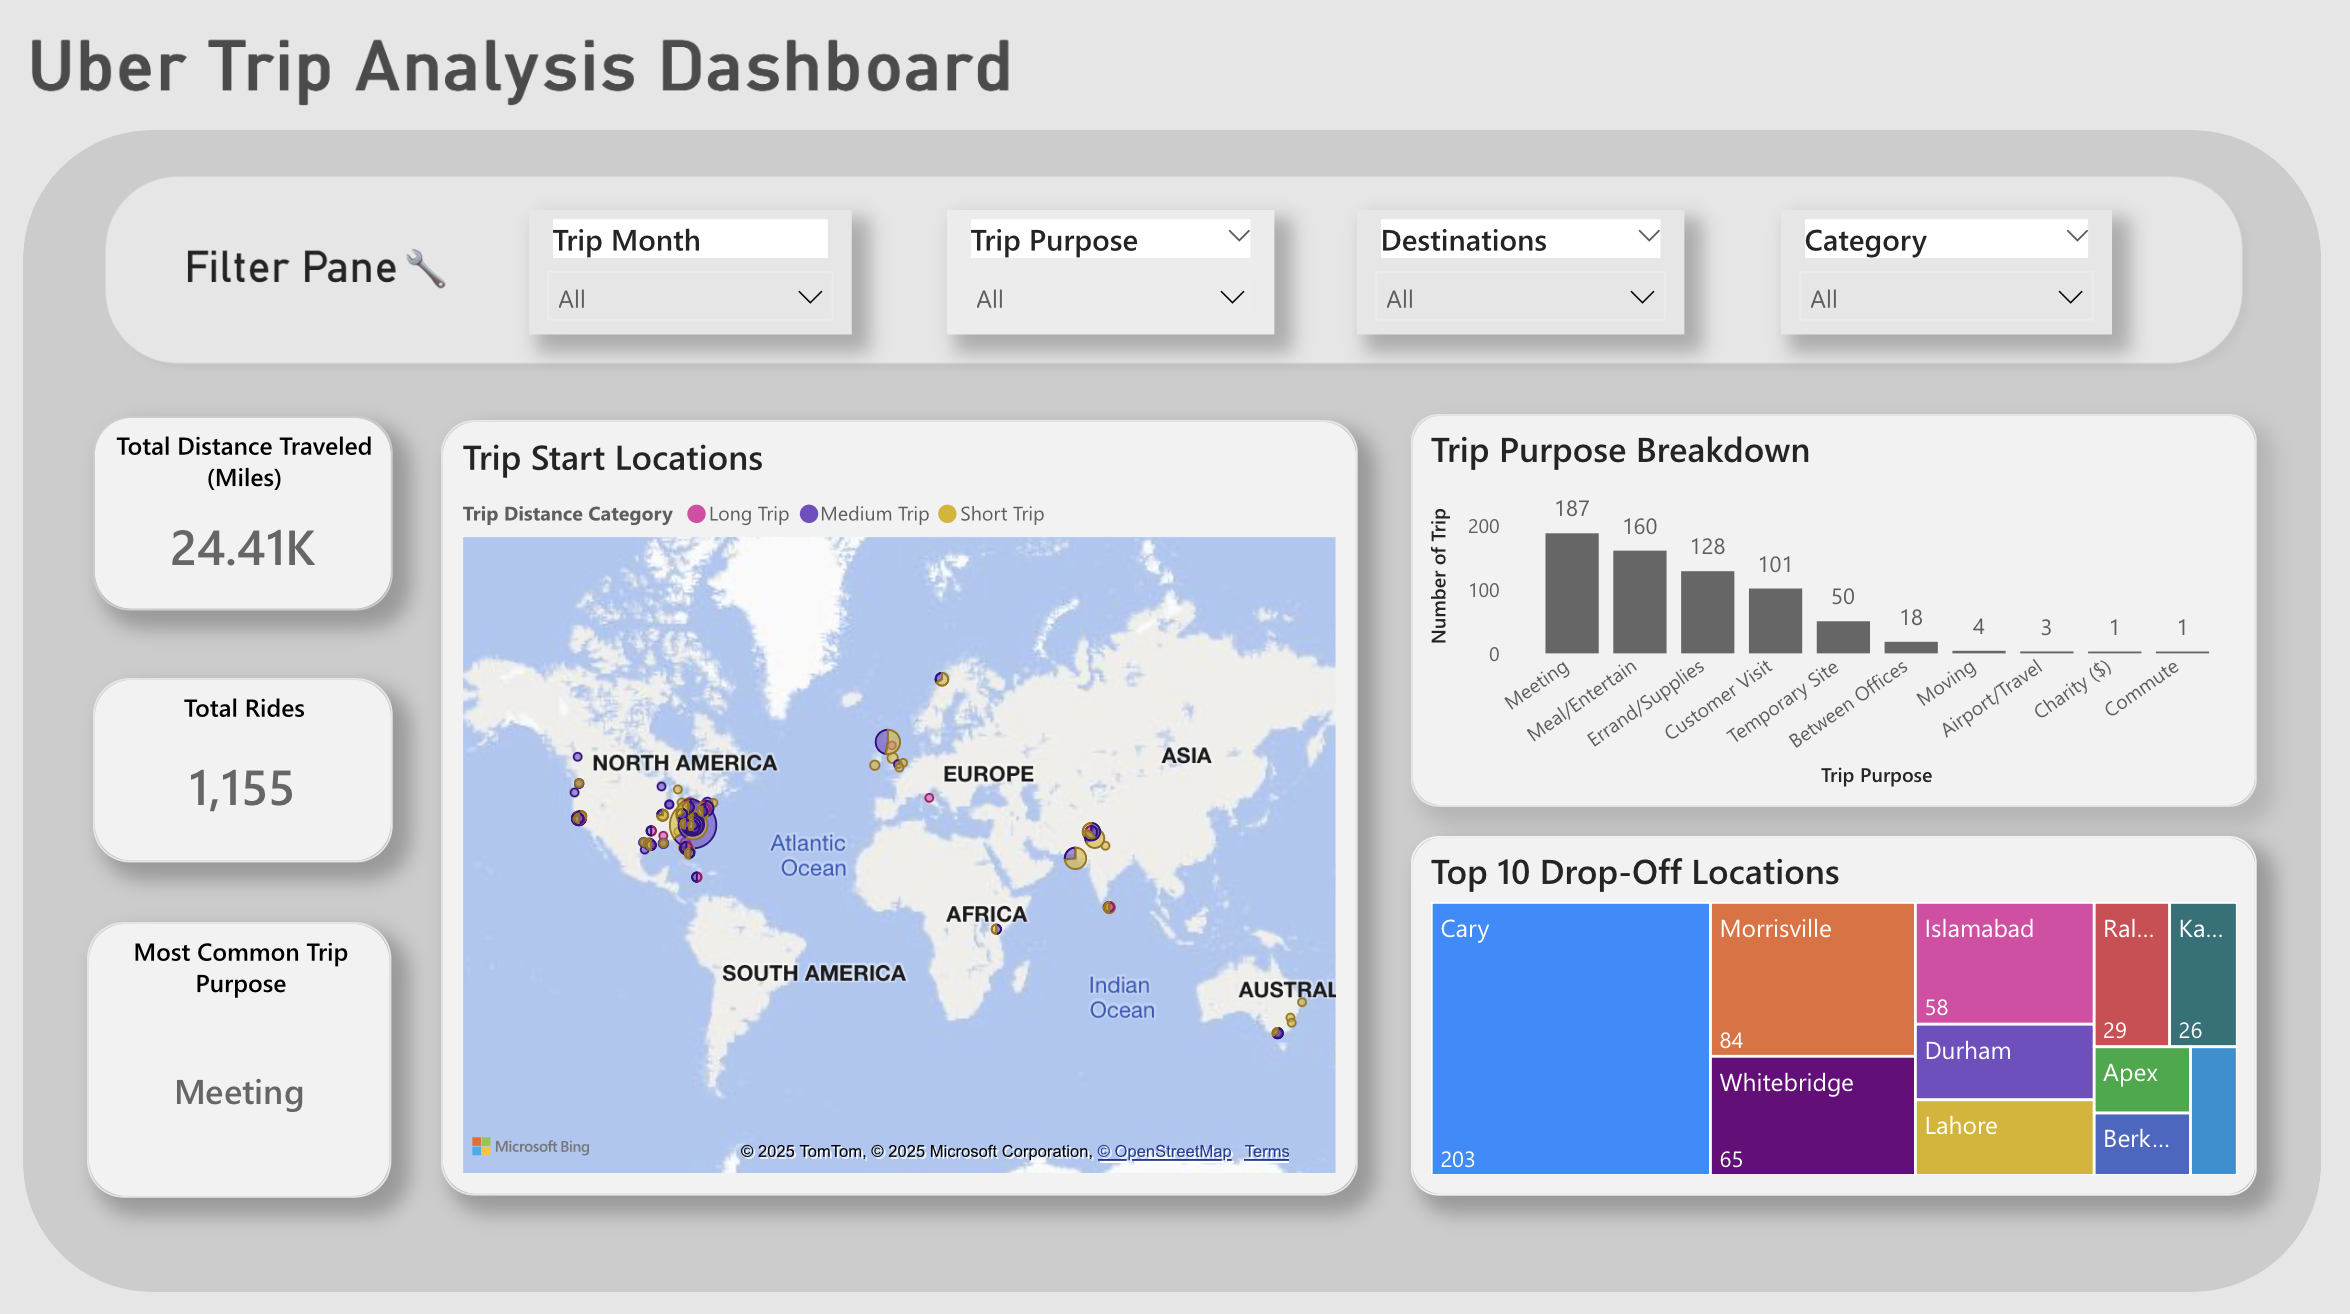

This screenshot's page, from the dashboard's own definition file:
{"tool":"powerbi","page":{"name":"Page 1","canvas":[1280,720],"ordinal":0},"visuals":[{"type":"shape","box":[14,74,1246,630],"z":0},{"type":"shape","box":[49.5,90,1176.5,119.2],"z":1000},{"type":"textbox","box":[12.2,16.3,624.5,73.5],"z":2000},{"type":"slicer","fields":{"Values":["UberDataset.END_DATE.Variation.Date Hierarchy.Month"]},"box":[287.9,117,175.5,67.5],"z":3000},{"type":"slicer","fields":{"Values":["UberDataset.PURPOSE"]},"box":[515.1,117,177.7,67.5],"z":4000},{"type":"slicer","fields":{"Values":["UberDataset.Cleaned_Location"]},"box":[737.9,117,177.7,67.5],"z":5000},{"type":"slicer","fields":{"Values":["UberDataset.CATEGORY"]},"box":[967.3,117,180,67.5],"z":6000},{"type":"textbox","box":[90.8,129.6,163.3,41.8],"z":7000},{"type":"card","title":"Total Rides","fields":{"Values":["CountNonNull(UberDataset.START_DATE)"]},"box":[52,370.7,162.7,100],"z":8000},{"type":"card","title":"Total Distance Traveled (Miles)","fields":{"Values":["Sum(UberDataset.MILES)"]},"box":[52,229.3,162.7,105.3],"z":9000},{"type":"card","title":"Most Common Trip Purpose","fields":{"Values":["UberDataset.Top 1 Trip Purposes"]},"box":[49.3,502.7,165.3,149.3],"z":10000},{"type":"map","title":"Trip Start Locations","fields":{"Category":["UberDataset.START"],"Size":["CountNonNull(UberDataset.START)"],"Series":["UberDataset.TRIP DISTANCE BINS"]},"box":[241,230.8,497.4,420.5],"z":10001},{"type":"clusteredColumnChart","title":"Trip Purpose Breakdown","fields":{"Category":["UberDataset.PURPOSE"],"Y":["CountNonNull(UberDataset.START_DATE)"]},"box":[766.7,228.2,459,212.8],"z":10002},{"type":"treemap","title":"Top 10 Drop-Off Locations","fields":{"Values":["CountNonNull(UberDataset.START_DATE)"],"Group":["UberDataset.Cleaned_Location"]},"box":[766.7,456.4,459,194.9],"z":10003}]}

Visuals, with their boxes in screenshot pixels (x1, y1, x2, y2), scaled from the page's 1280x720 canvas onto the 2350x1314 screenshot:
shape: pyautogui.locateOnScreen(26, 135, 2313, 1285)
shape: pyautogui.locateOnScreen(91, 164, 2251, 382)
textbox: pyautogui.locateOnScreen(22, 30, 1169, 164)
slicer - UberDataset.END_DATE.Variation.Date Hierarchy.Month: pyautogui.locateOnScreen(529, 214, 851, 337)
slicer - UberDataset.PURPOSE: pyautogui.locateOnScreen(946, 214, 1272, 337)
slicer - UberDataset.Cleaned_Location: pyautogui.locateOnScreen(1355, 214, 1681, 337)
slicer - UberDataset.CATEGORY: pyautogui.locateOnScreen(1776, 214, 2106, 337)
textbox: pyautogui.locateOnScreen(167, 237, 467, 313)
"Total Rides" card: pyautogui.locateOnScreen(95, 677, 394, 859)
"Total Distance Traveled (Miles)" card: pyautogui.locateOnScreen(95, 418, 394, 611)
"Most Common Trip Purpose" card: pyautogui.locateOnScreen(91, 917, 394, 1190)
"Trip Start Locations" map: pyautogui.locateOnScreen(442, 421, 1356, 1189)
"Trip Purpose Breakdown" clusteredColumnChart: pyautogui.locateOnScreen(1408, 416, 2250, 805)
"Top 10 Drop-Off Locations" treemap: pyautogui.locateOnScreen(1408, 833, 2250, 1189)
